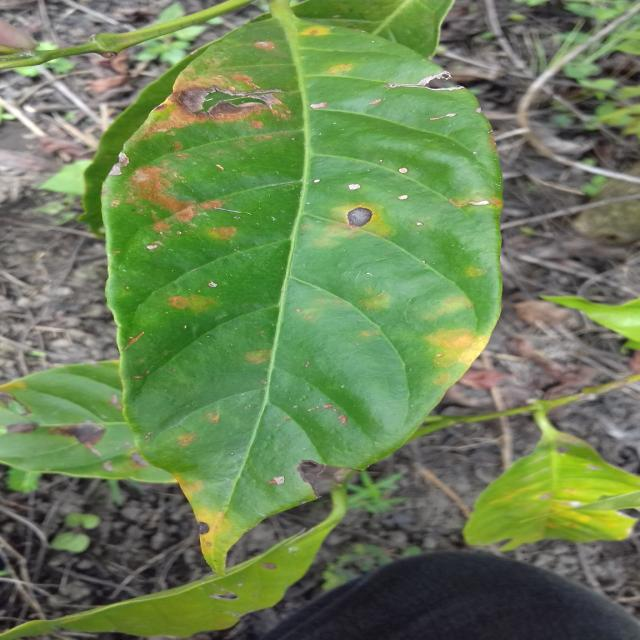Enfermedad-Roya: (14, 13, 504, 633)
